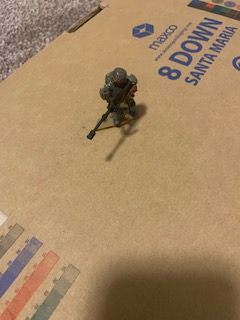soldier: (84, 68, 143, 146)
